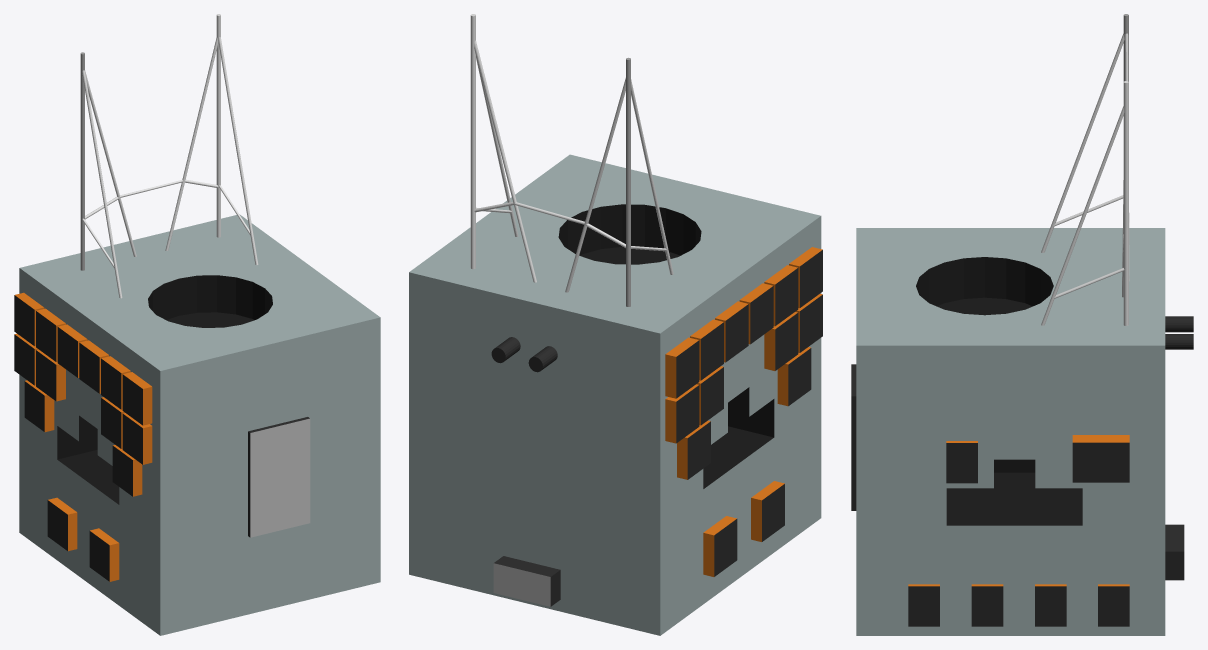
Rendered from BusWithStructure.gltf.
The picture shows the model from 3 angles, left to right: view 1: azimuth 30°, elevation 25°; view 2: azimuth 150°, elevation 25°; view 3: azimuth 270°, elevation 25°; orthographic projection. The views are drawn at different scales.
Visible parts, largest first — view 1: Psyche_Spacecraft_-_Bus, Cylinder, Cylinder.006, Cylinder.005, Cylinder.001, Cylinder.007, Cylinder.008; view 2: Psyche_Spacecraft_-_Bus, Cylinder.006, Cylinder, Cylinder.007, Cylinder.008, Cylinder.005, Cylinder.001; view 3: Psyche_Spacecraft_-_Bus, Cylinder.006, Cylinder.001, Cylinder.005.
Boxes of the visible parts, left/top/right/bottom form: Psyche_Spacecraft_-_Bus: left=14, top=214, right=380, bottom=635; Cylinder: left=80, top=52, right=84, bottom=270; Cylinder.006: left=216, top=14, right=220, bottom=237; Cylinder.005: left=82, top=70, right=122, bottom=298; Cylinder.001: left=218, top=37, right=258, bottom=264; Cylinder.007: left=165, top=37, right=218, bottom=250; Cylinder.008: left=85, top=70, right=136, bottom=256; Psyche_Spacecraft_-_Bus: left=409, top=154, right=822, bottom=635; Cylinder.006: left=470, top=14, right=475, bottom=269; Cylinder: left=626, top=57, right=630, bottom=306; Cylinder.007: left=474, top=40, right=536, bottom=282; Cylinder.008: left=565, top=78, right=625, bottom=292; Cylinder.005: left=631, top=79, right=673, bottom=274; Cylinder.001: left=476, top=56, right=518, bottom=236; Psyche_Spacecraft_-_Bus: left=851, top=228, right=1193, bottom=635; Cylinder.006: left=1123, top=81, right=1128, bottom=325; Cylinder.001: left=1041, top=106, right=1124, bottom=325; Cylinder.005: left=1041, top=33, right=1124, bottom=252.
Bounding box in the file's own units: 8.11 × 15.47 × 9.
